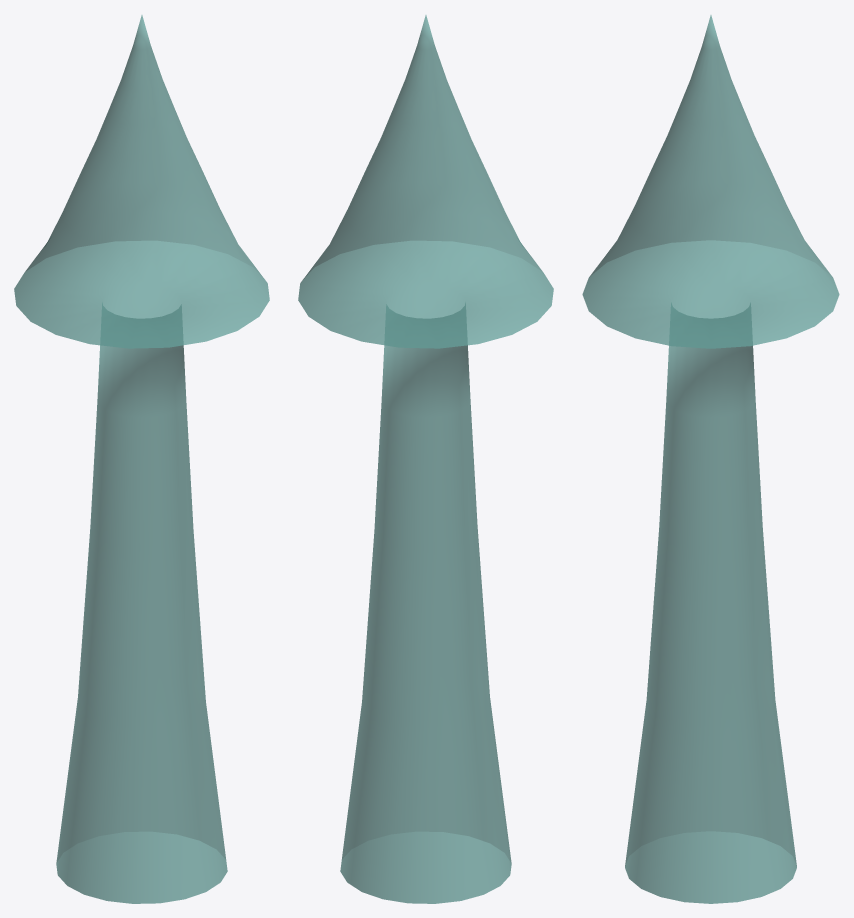
File: ProjectionArrow.fbx
3 views of the same model, side by side, from view 1: azimuth 30°, elevation 25°; view 2: azimuth 150°, elevation 25°; view 3: azimuth 270°, elevation 25° (orthographic).
Parts seen in each view (by area): view 1: pCylinder1; view 2: pCylinder1; view 3: pCylinder1.
Part boxes in pixels (x1=…): pCylinder1: x1=14, y1=15, x2=269, y2=903; pCylinder1: x1=298, y1=15, x2=553, y2=903; pCylinder1: x1=582, y1=15, x2=839, y2=903.
Bounding box in the file's own units: 1.85 × 6.77 × 1.85.
